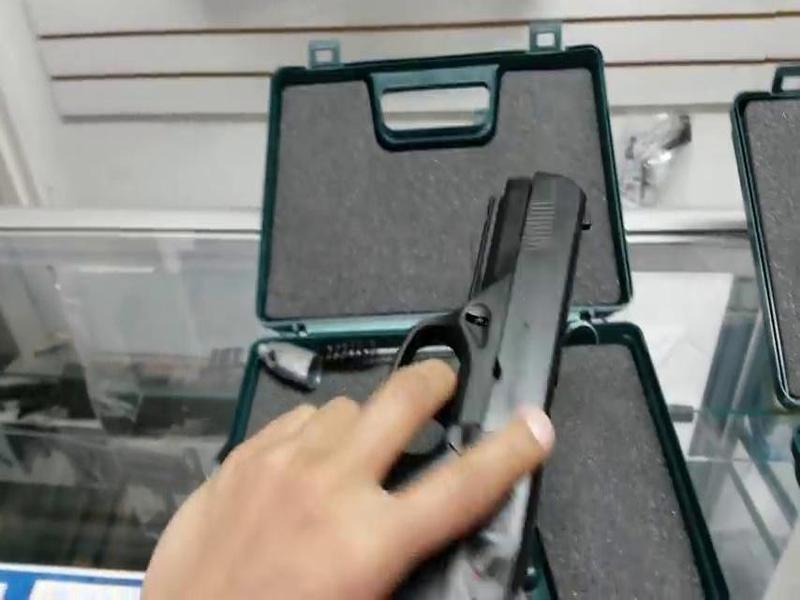Pistola: (321, 140, 631, 600)
